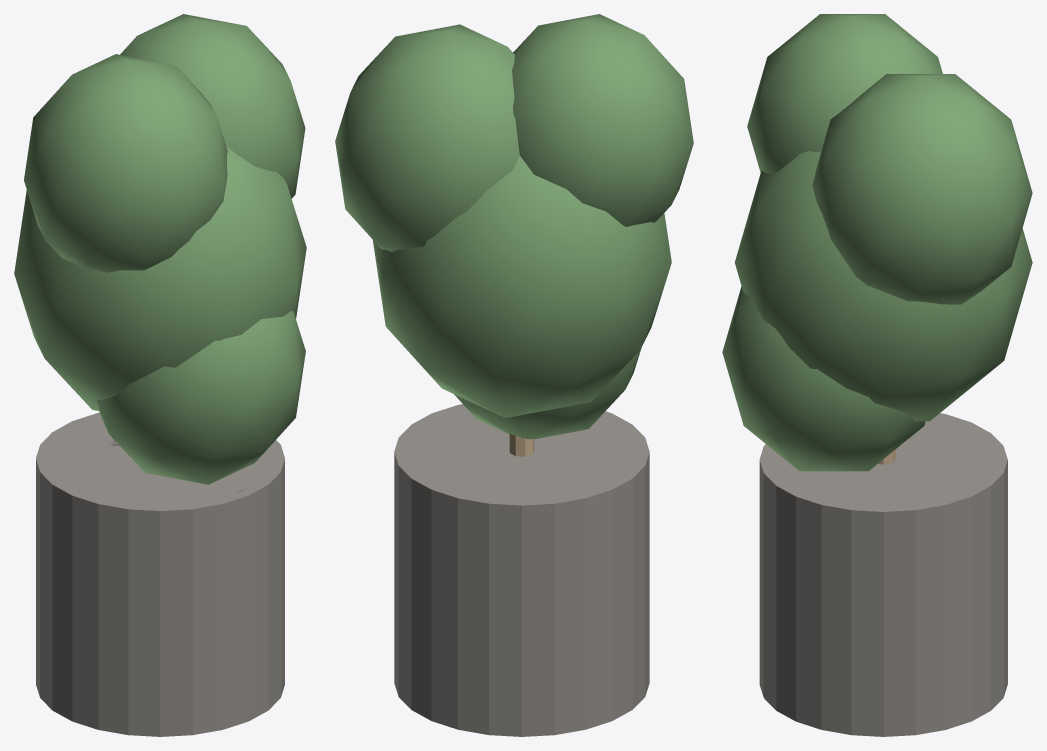
Rendered from potted_plant.glb.
3 renders of one model, left to right at view 1: azimuth 30°, elevation 25°; view 2: azimuth 150°, elevation 25°; view 3: azimuth 270°, elevation 25°, orthographic. The views are drawn at different scales.
Visible parts, largest first — view 1: potted_plant; view 2: potted_plant; view 3: potted_plant.
Part boxes in pixels (box(x1,y1,x2,y2)): potted_plant: box(14, 14, 306, 736); potted_plant: box(335, 14, 693, 736); potted_plant: box(722, 14, 1032, 736).
Bounding box in the file's own units: 0.5229 × 1.15 × 0.5.
